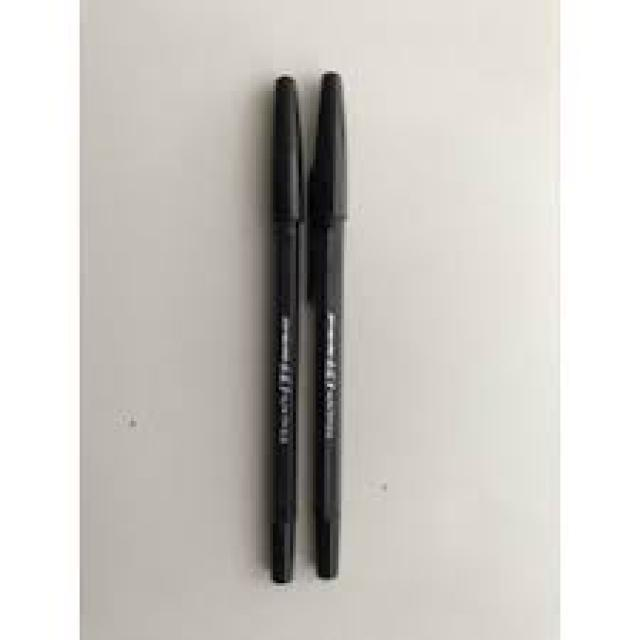pen: (260, 79, 307, 572), (311, 77, 348, 589)
